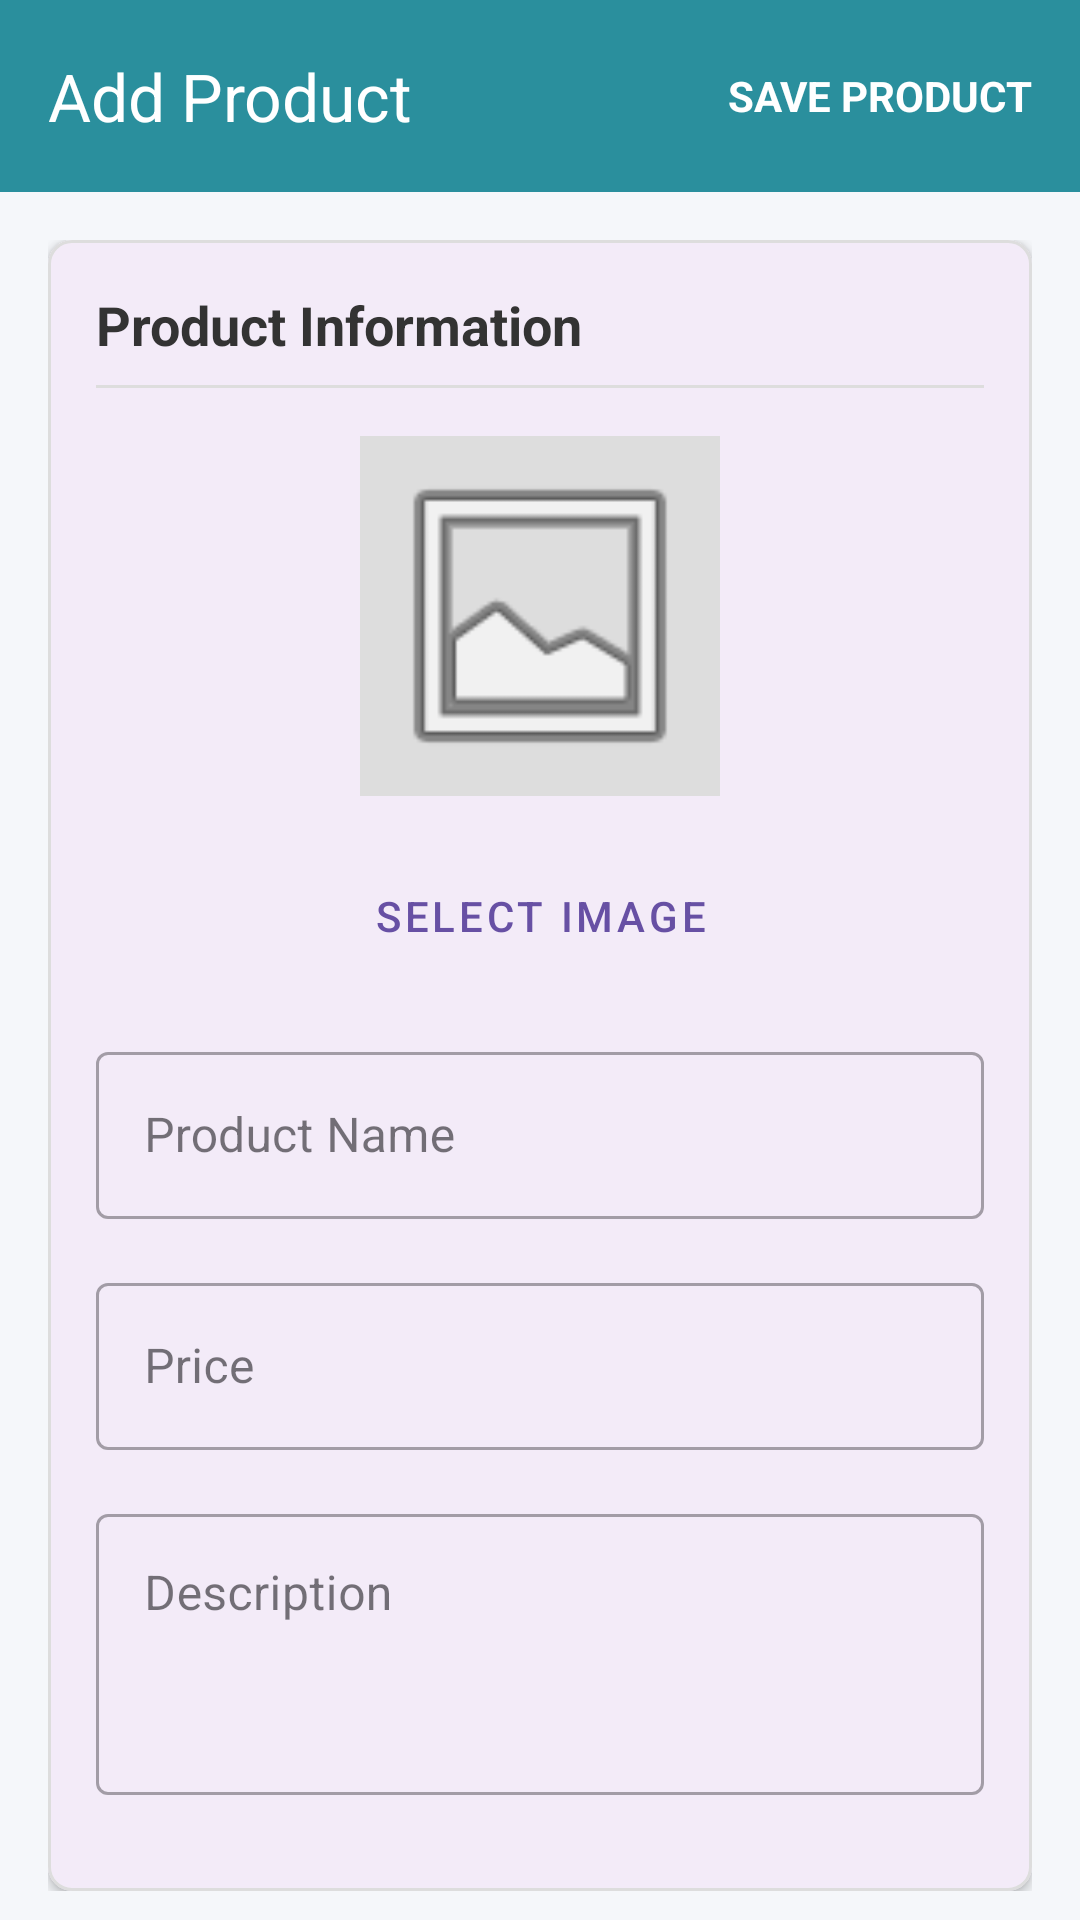

Point at icon controls on the screen. Image size 1080x1920, points as (x,y).
gallery: (540,616)
